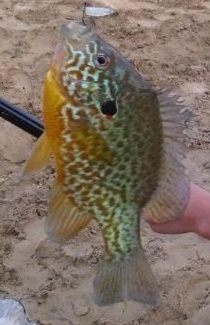Lepomis gibbosus: (20, 20, 190, 305)
